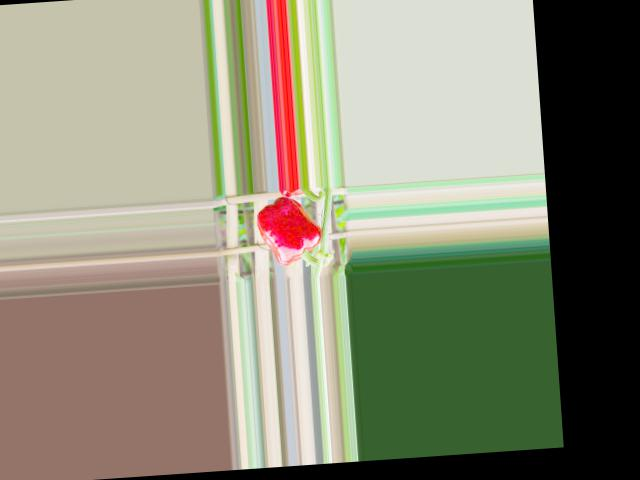bell_pepper: (250, 195, 328, 268)
